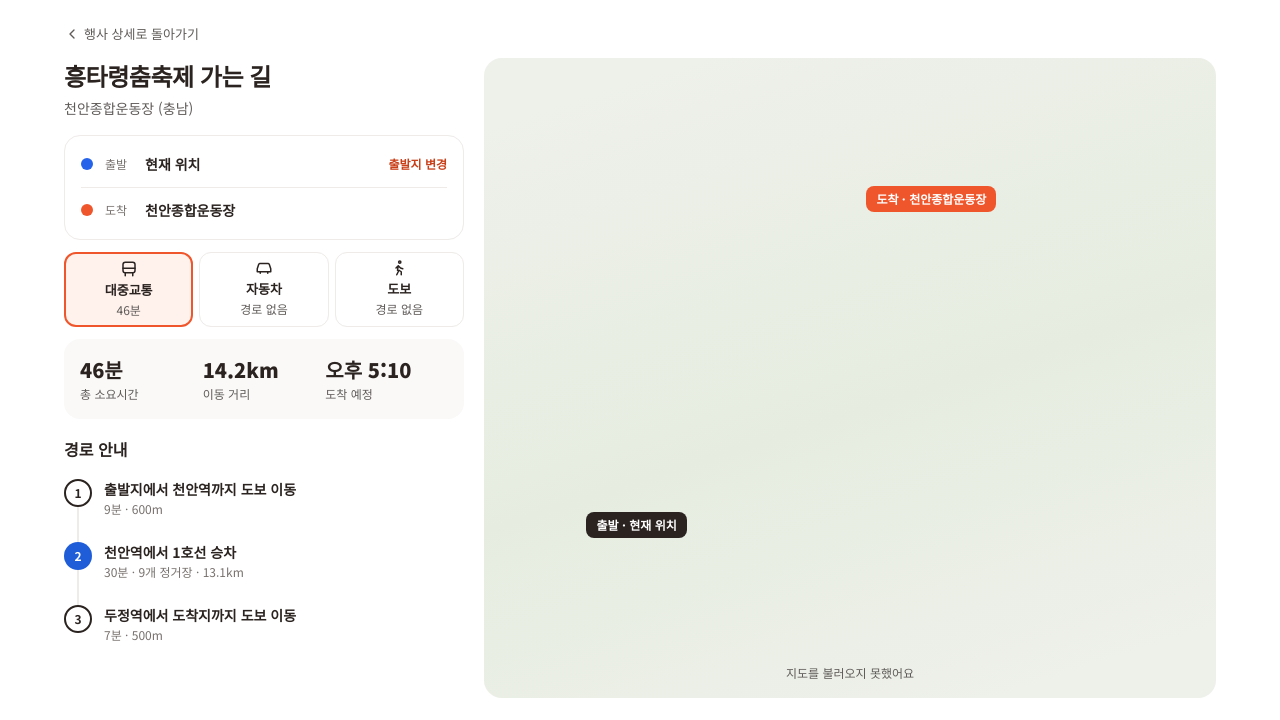
Test: Directions › 현재 위치가 있으면 모의 경로를 보여주고 도보 탭은 D3 를 보여준다
Expected: the heading "경로 안내" is shown, [64,437,127,461]
Click the tab "도보 경로 없음" at (399,289), box [335,252,464,327]
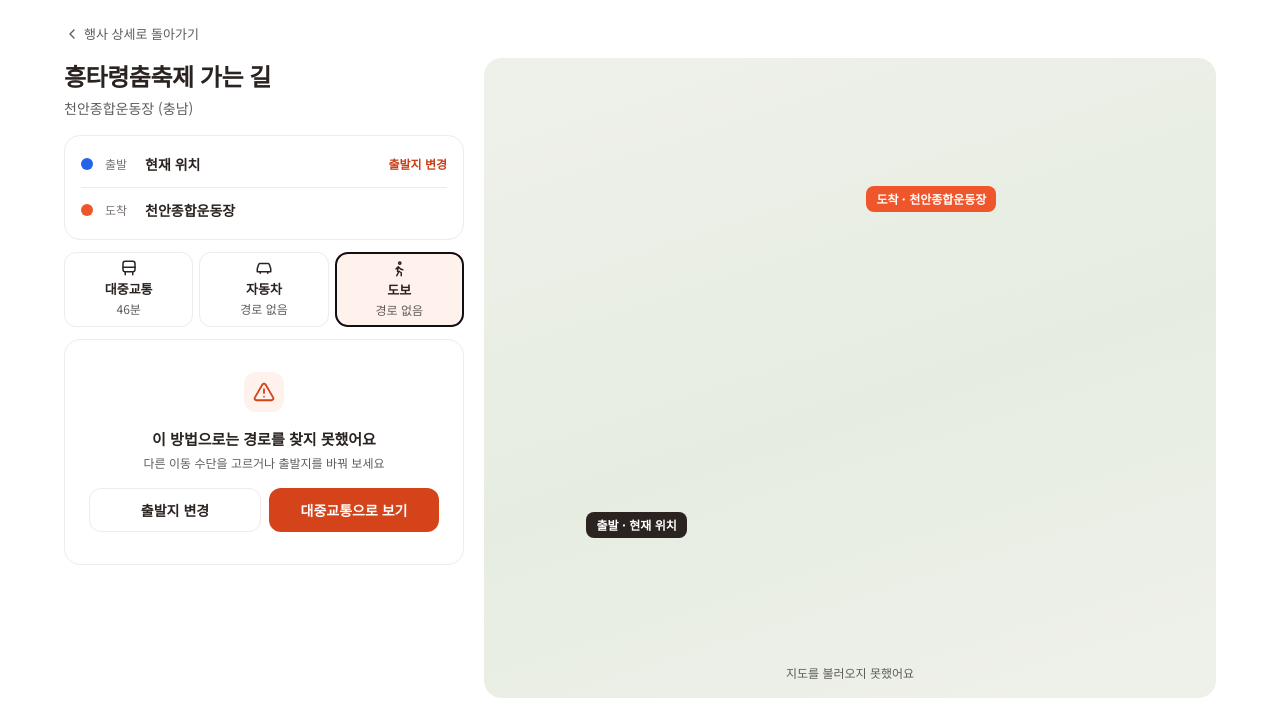
Expected: the element with test id "no-route" is shown, [64,339,464,565]
